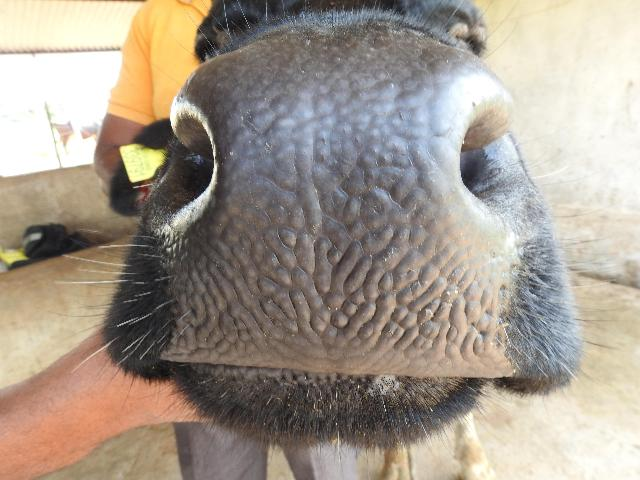Muzzle: (222, 66, 453, 368)
